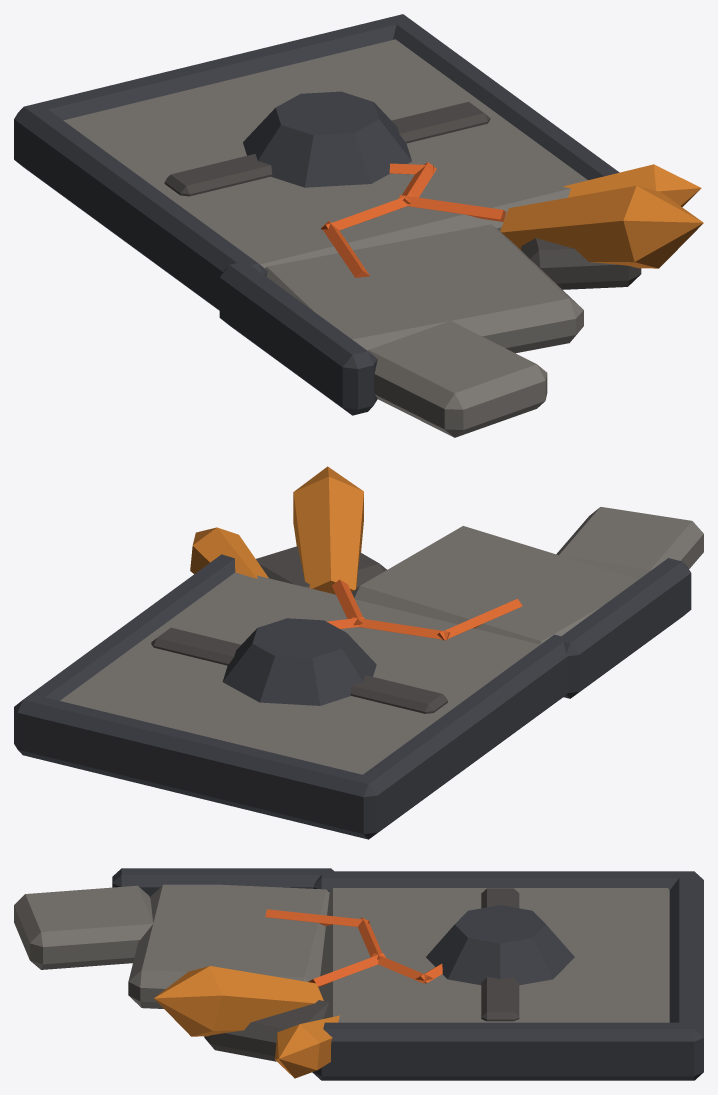
File: boss_shield.fbx
3 views of the same model, one above another, from view 1: azimuth 30°, elevation 25°; view 2: azimuth 150°, elevation 25°; view 3: azimuth 270°, elevation 25° (orthographic). The views are drawn at different scales.
Parts seen in each view (by area): view 1: boss_shield; view 2: boss_shield; view 3: boss_shield.
Boxes of the visible parts, left/top/right/bottom form: boss_shield: left=14, top=14, right=703, bottom=437; boss_shield: left=14, top=466, right=703, bottom=839; boss_shield: left=14, top=868, right=703, bottom=1080.
Bounding box in the file's own units: 1.17 × 0.3064 × 1.81.
